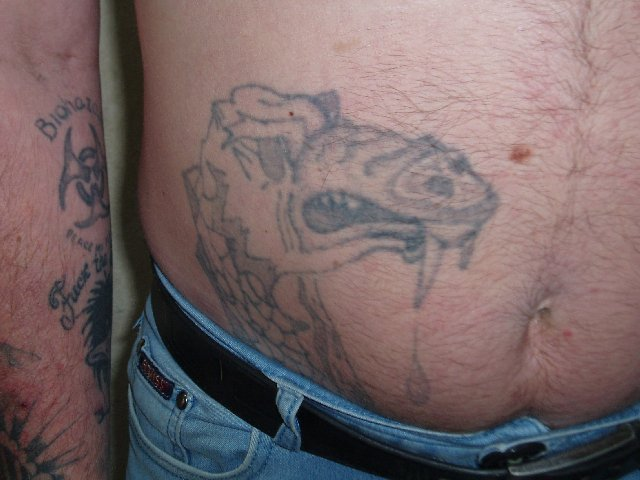tatu3_bukva: (43, 235, 112, 287)
tatu6_drakon: (176, 77, 514, 406)
